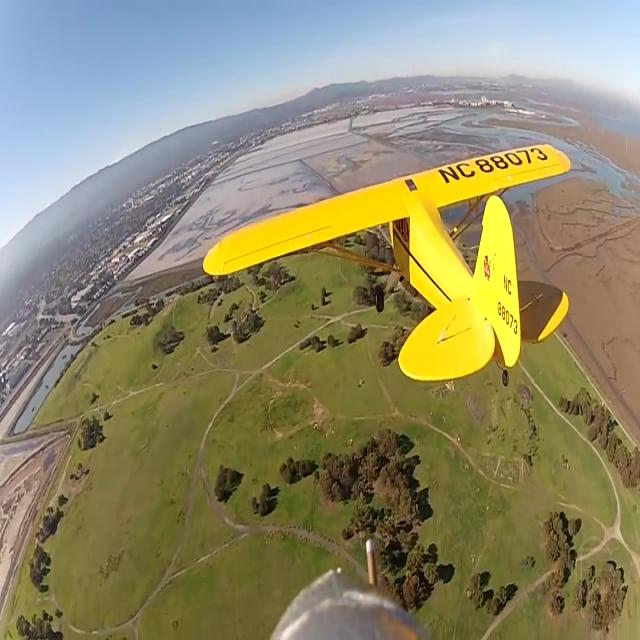iha: (201, 133, 570, 382)
